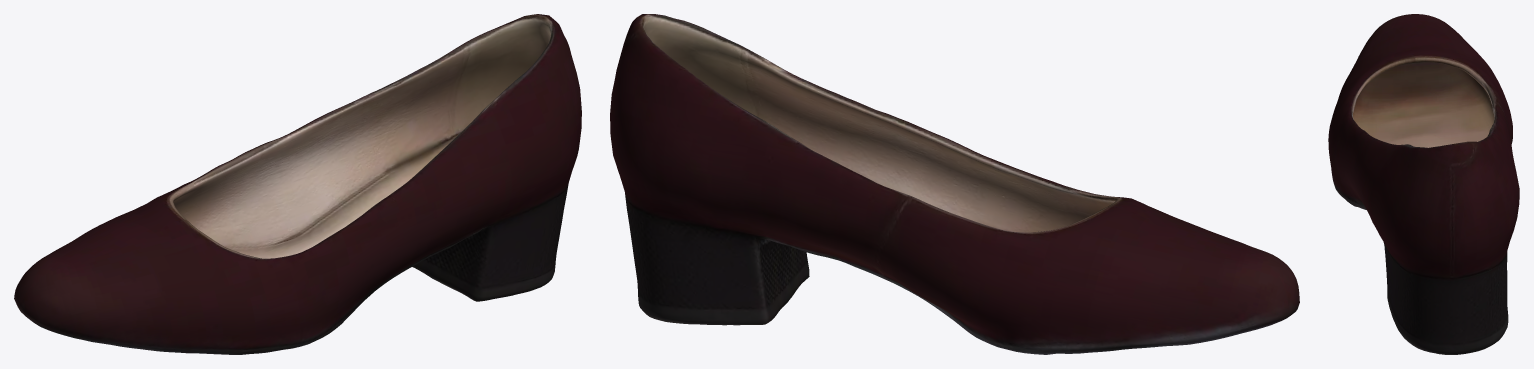
File: low-heels.glb
3 renders of one model, left to right at view 1: azimuth 30°, elevation 25°; view 2: azimuth 150°, elevation 25°; view 3: azimuth 270°, elevation 25°, orthographic. The views are drawn at different scales.
Parts seen in each view (by area): view 1: Object_2; view 2: Object_2; view 3: Object_2.
Part boxes in pixels (bbox=[...]): Object_2: bbox=[14, 14, 581, 354]; Object_2: bbox=[610, 14, 1299, 354]; Object_2: bbox=[1328, 14, 1519, 354].
Bounding box in the file's own units: 2.14 × 0.8713 × 0.7033.
Materials: 1 (1 with a texture image).
